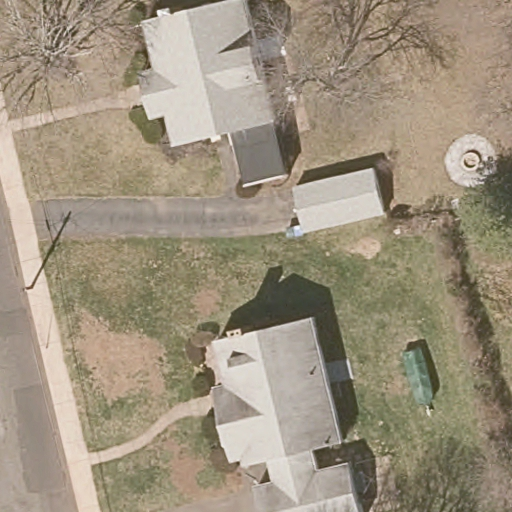DT: (22, 241, 56, 296)
